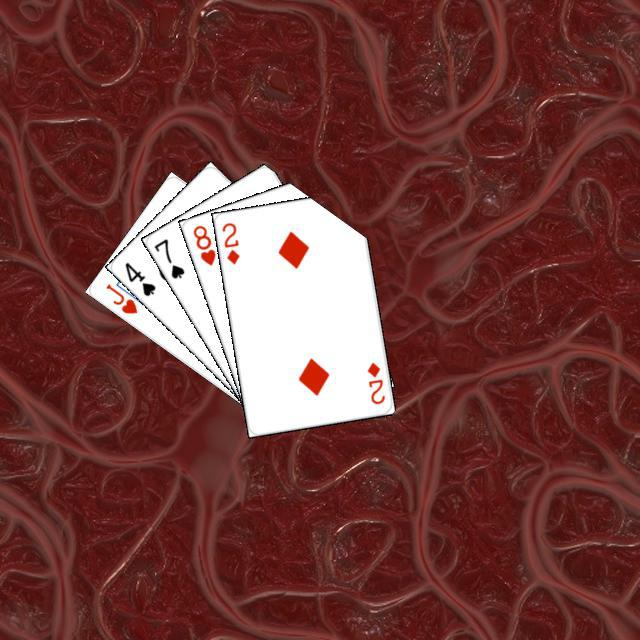2d: (362, 357, 387, 406), (217, 217, 241, 266)
4s: (120, 257, 158, 298)
7s: (149, 234, 186, 281)
8h: (188, 220, 217, 267)
Jh: (101, 279, 139, 316)
